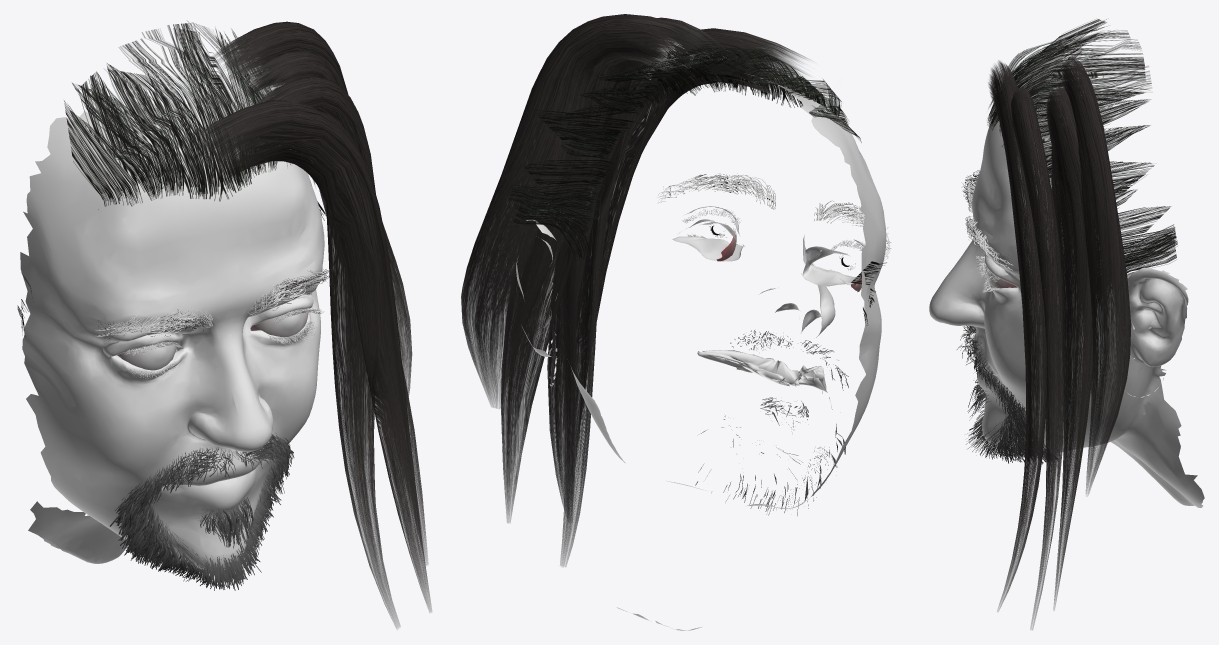
The model's file is HeadDefChangeHairMatMOB.glb.
The picture shows the model from 3 angles, left to right: view 1: azimuth 30°, elevation 25°; view 2: azimuth 150°, elevation 25°; view 3: azimuth 270°, elevation 25°; orthographic projection. The views are drawn at different scales.
Parts seen in each view (by area): view 1: Head2.001, NurbsPath, NurbsPath.001, Bebar, Broaux, Sphere2, Sphere2.001; view 2: NurbsPath, NurbsPath.001, Head2.001, Broaux, Bebar; view 3: NurbsPath, Head2.001, NurbsPath.001, Bebar, Broaux.
Boxes of the visible parts, x1,y1,x2,y2 form: Head2.001: (20,88,324,569); NurbsPath: (187,21,431,628); NurbsPath.001: (17,21,326,336); Bebar: (110,432,294,590); Broaux: (95,269,329,341); Sphere2: (117,341,176,370); Sphere2.001: (250,309,308,337); NurbsPath: (461,14,809,566); NurbsPath.001: (508,46,886,325); Head2.001: (498,74,886,630); Broaux: (657,174,890,261); Bebar: (695,330,848,515); NurbsPath: (988,56,1131,629); Head2.001: (929,45,1204,507); NurbsPath.001: (987,19,1177,302); Bebar: (957,325,1057,464); Broaux: (963,170,1012,270).
Size of the model in its own units: 3.97 by 5.58 by 2.7.
Materials: 3 (2 with a texture image).
